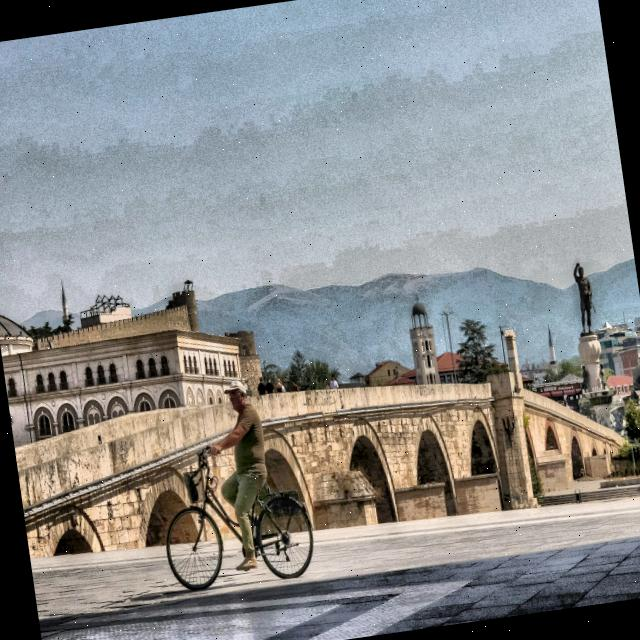stone bridge: (12, 344, 634, 574)
